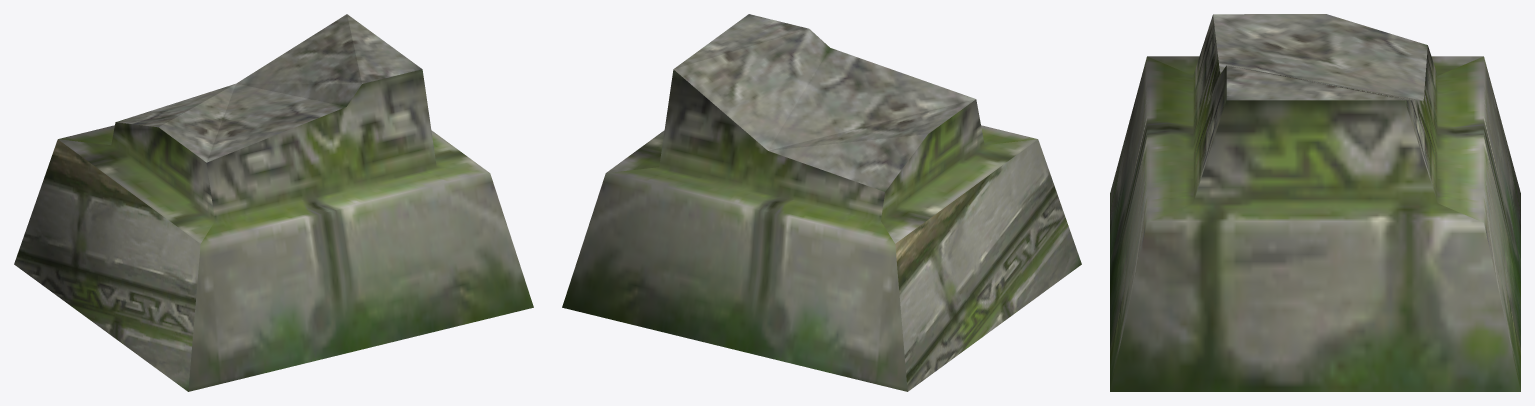
Rendered from zc_zhanchang001_langan03_55_37_9376out.fbx.
The picture shows the model from 3 angles, left to right: view 1: azimuth 30°, elevation 25°; view 2: azimuth 150°, elevation 25°; view 3: azimuth 270°, elevation 25°; orthographic projection. The views are drawn at different scales.
Parts seen in each view (by area): view 1: zc_zhanchang001_langan03; view 2: zc_zhanchang001_langan03; view 3: zc_zhanchang001_langan03.
Boxes of the visible parts, left/top/right/bottom form: zc_zhanchang001_langan03: left=14, top=14, right=533, bottom=391; zc_zhanchang001_langan03: left=562, top=14, right=1081, bottom=391; zc_zhanchang001_langan03: left=1110, top=14, right=1520, bottom=391.
Size of the model in its own units: 0.9806 by 0.5891 by 0.8563.
